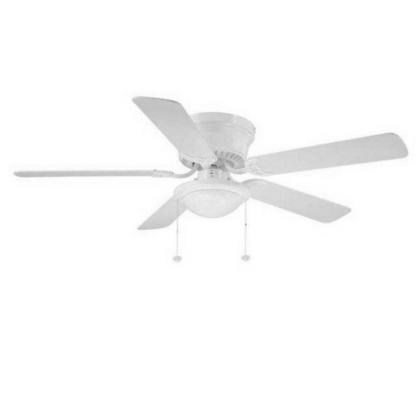ceiling-fan: (10, 95, 410, 263)
